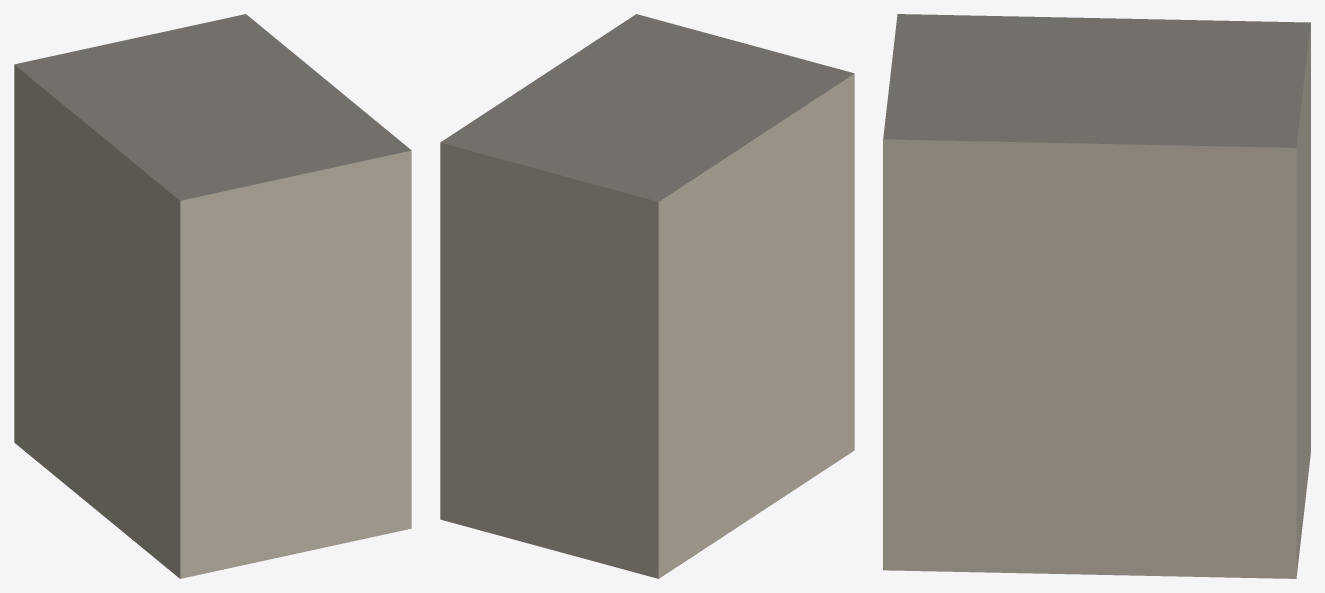
The picture shows the model from 3 angles, left to right: view 1: azimuth 30°, elevation 25°; view 2: azimuth 150°, elevation 25°; view 3: azimuth 270°, elevation 25°; orthographic projection. The views are drawn at different scales.
Parts seen in each view (by area): view 1: HP-w858824346; view 2: HP-w858824346; view 3: HP-w858824346.
Part boxes in pixels (left/top/right/bottom): HP-w858824346: left=14, top=14, right=411, bottom=578; HP-w858824346: left=440, top=14, right=854, bottom=578; HP-w858824346: left=883, top=14, right=1310, bottom=578.
Bounding box in the file's own units: 12 × 18 × 16.19.
